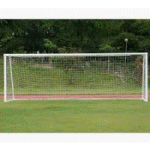goals: (2, 52, 150, 104)
